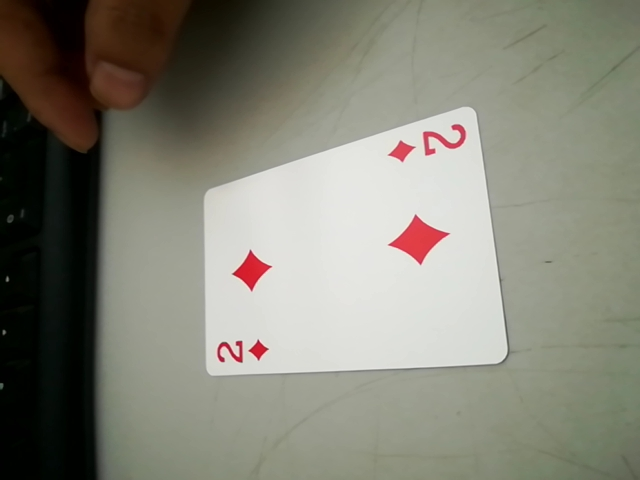fk 2: (381, 119, 472, 169), (210, 330, 277, 372)
